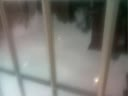window: (0, 1, 43, 96), (54, 67, 82, 96), (105, 78, 128, 96), (52, 32, 75, 46)
